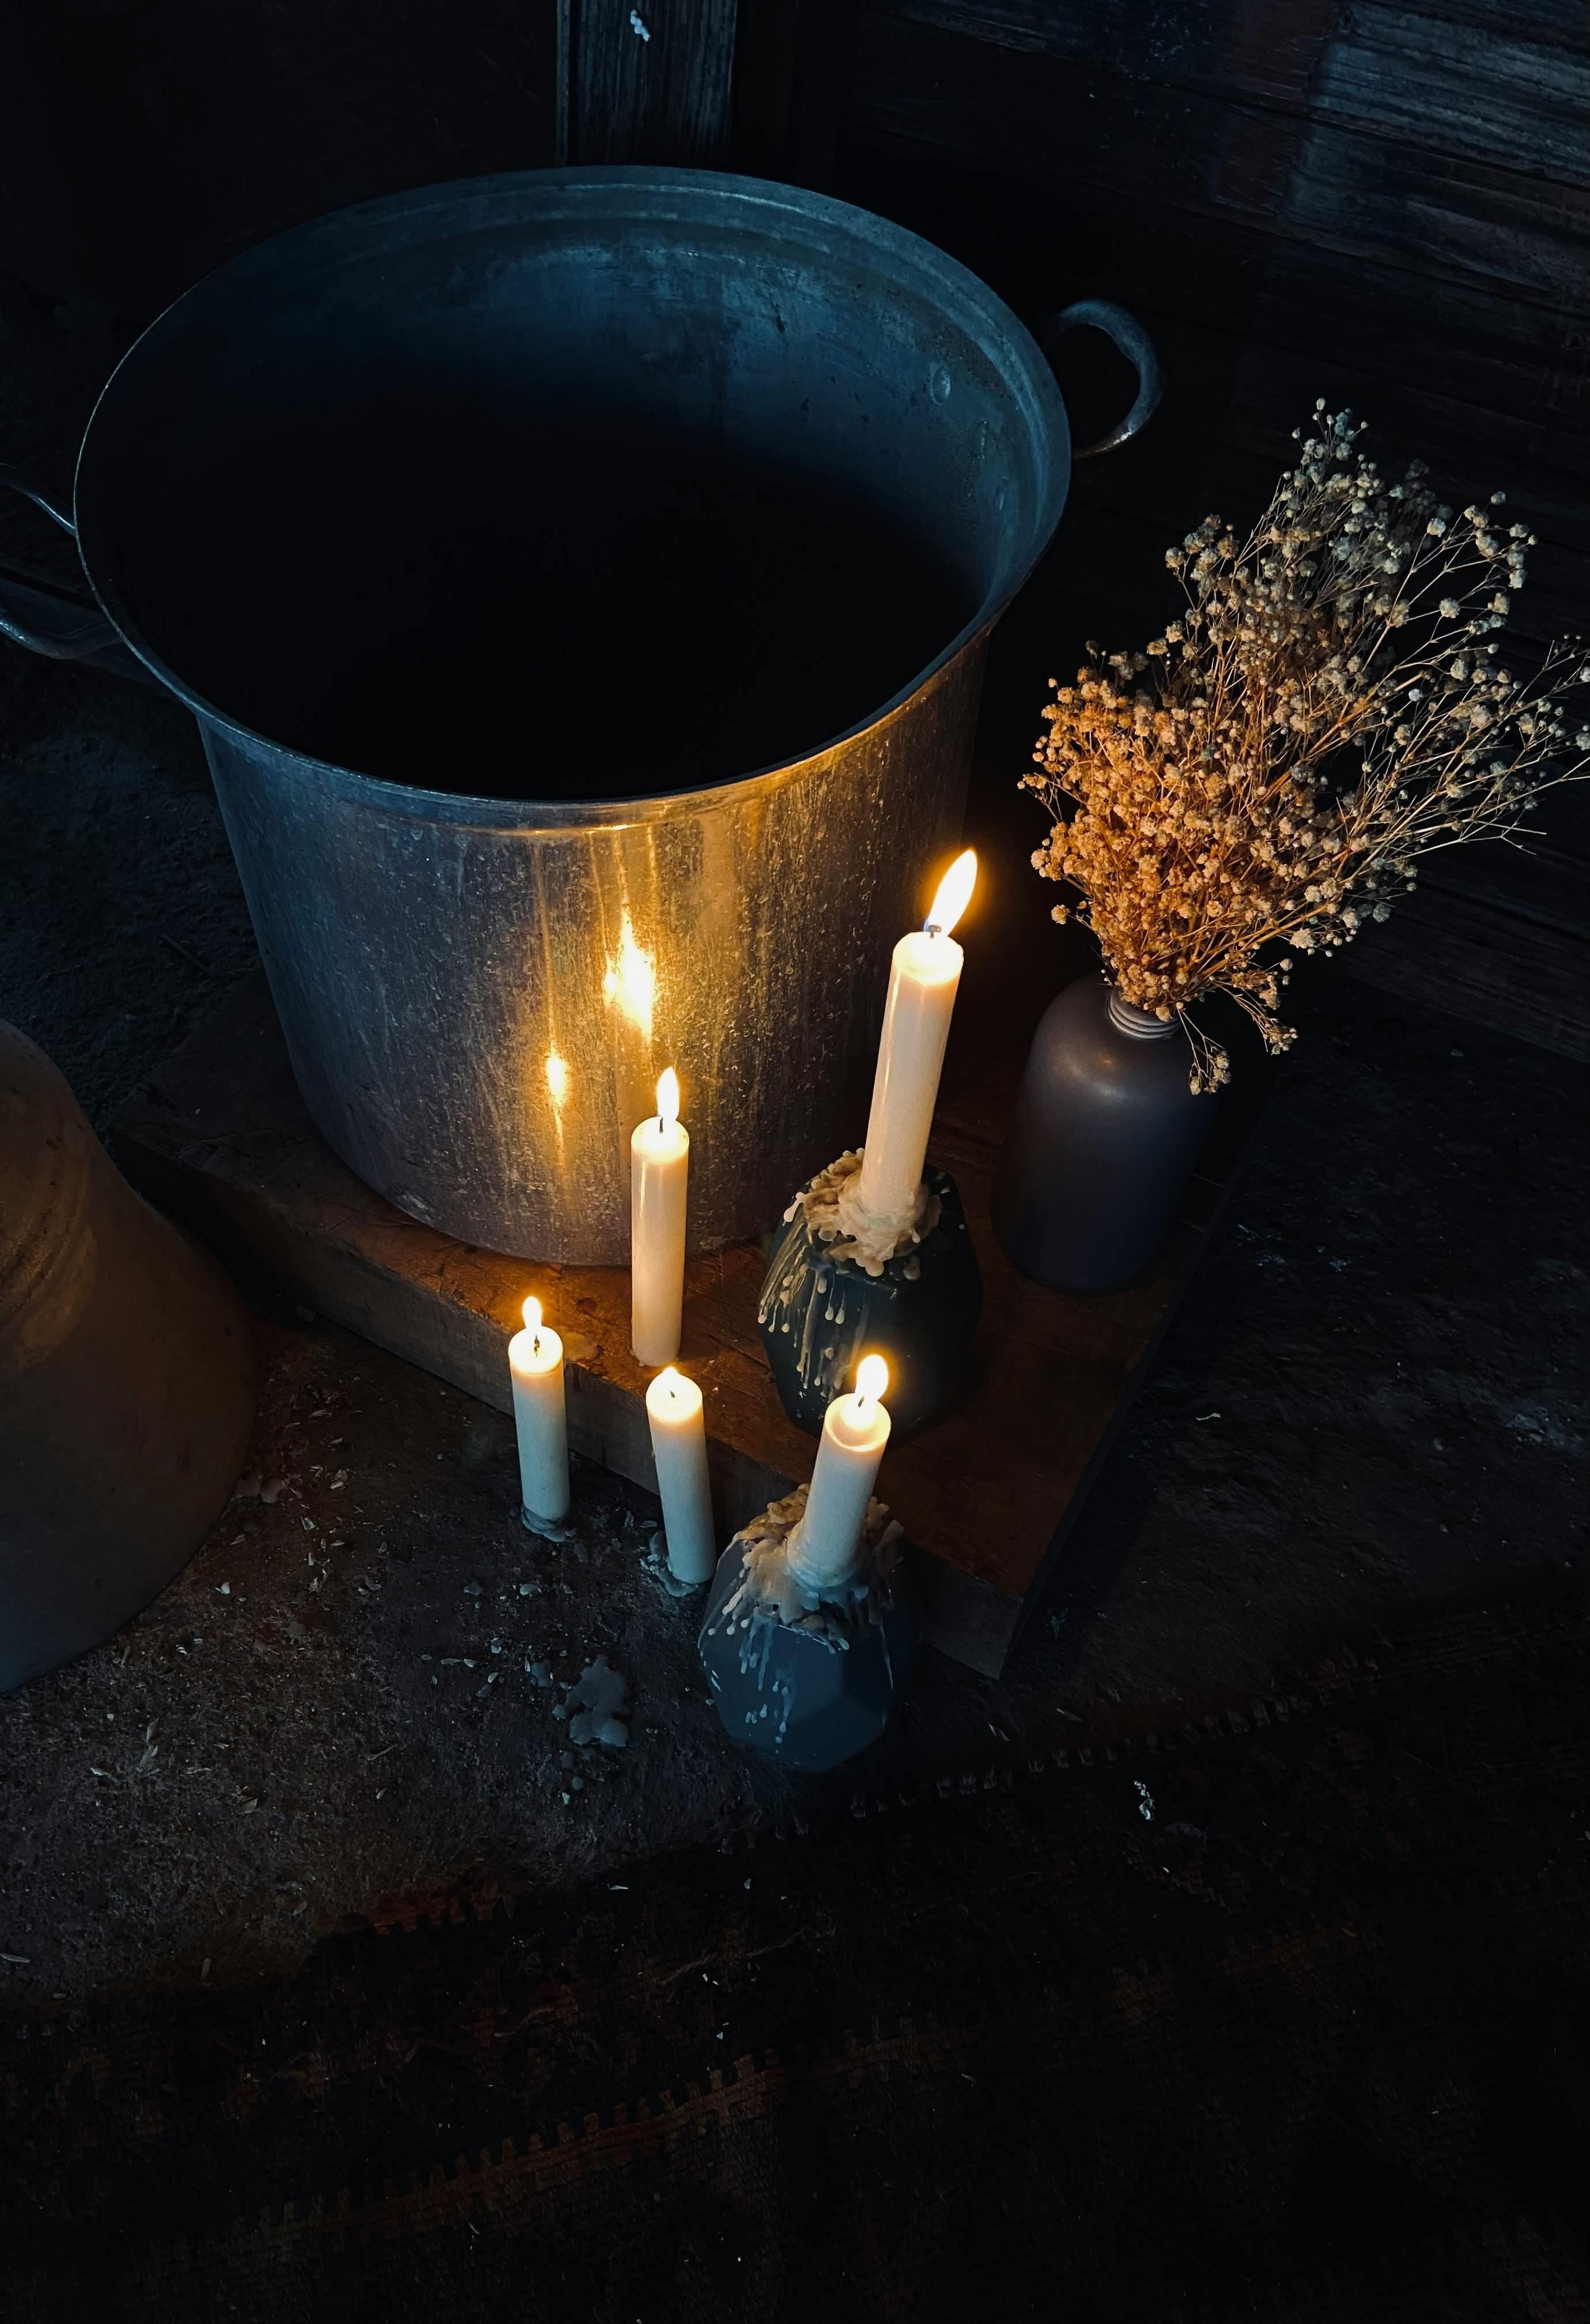Fire: (895, 825, 1009, 950), (826, 1333, 949, 1448), (623, 1038, 729, 1171), (642, 1346, 729, 1443), (508, 1280, 568, 1360)
